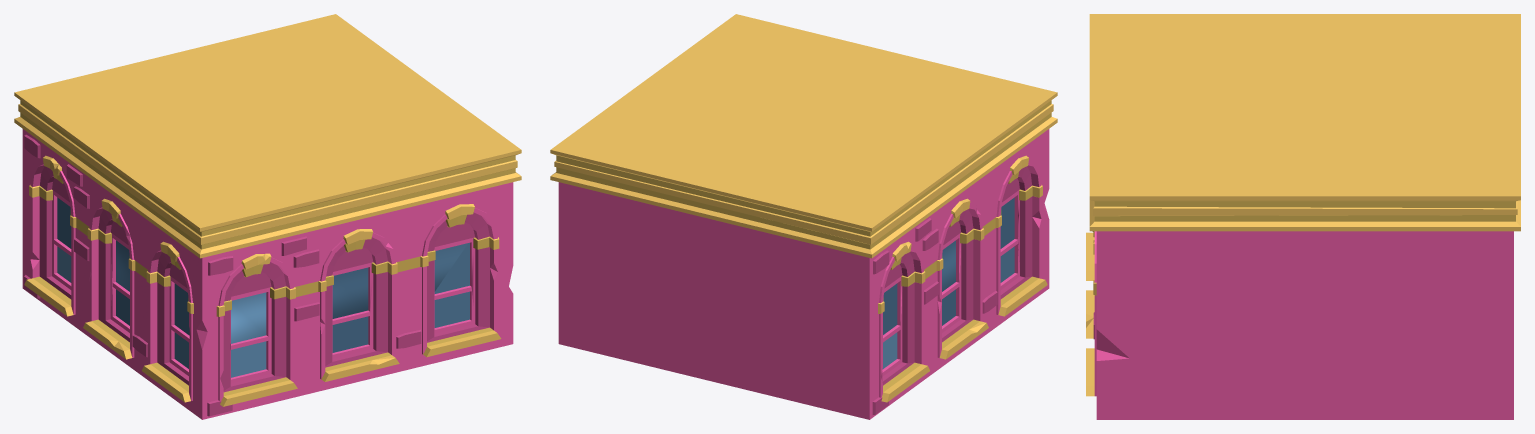
File: Mod_Edificio_2.fbx
The picture shows the model from 3 angles, left to right: view 1: azimuth 30°, elevation 25°; view 2: azimuth 150°, elevation 25°; view 3: azimuth 270°, elevation 25°; orthographic projection. The views are drawn at different scales.
Parts seen in each view (by area): view 1: Edificio_2; view 2: Edificio_2; view 3: Edificio_2.
Boxes of the visible parts, x1,y1,x2,y2 form: Edificio_2: [14, 14, 521, 419]; Edificio_2: [550, 14, 1057, 419]; Edificio_2: [1086, 14, 1520, 419].
Bounding box in the file's own units: 5.21 × 3 × 5.21.
